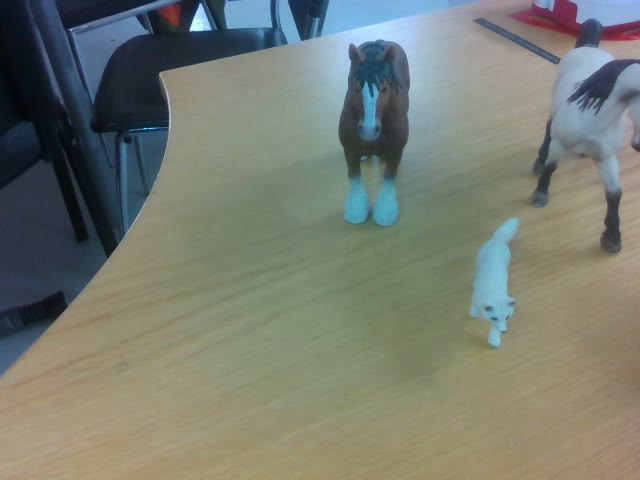toy: (336, 38, 410, 231), (467, 217, 519, 348)
